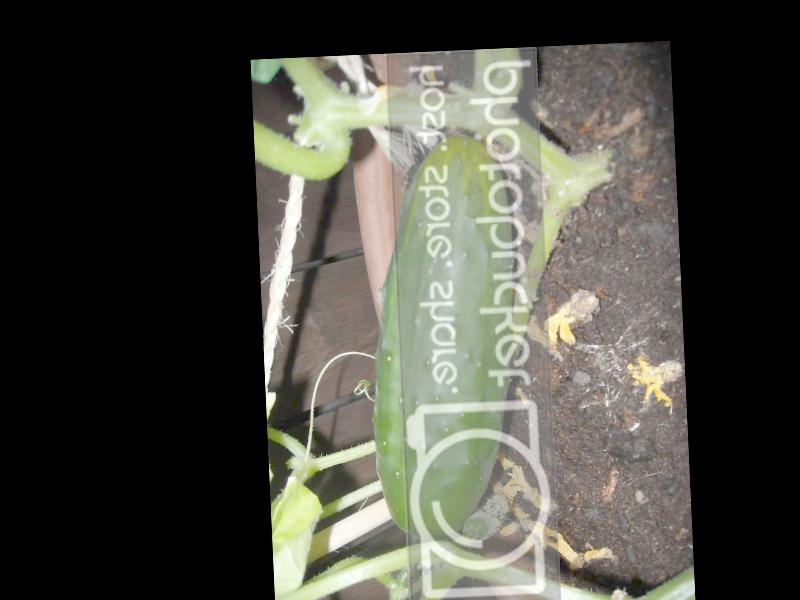Cucumber: (362, 133, 528, 539)
